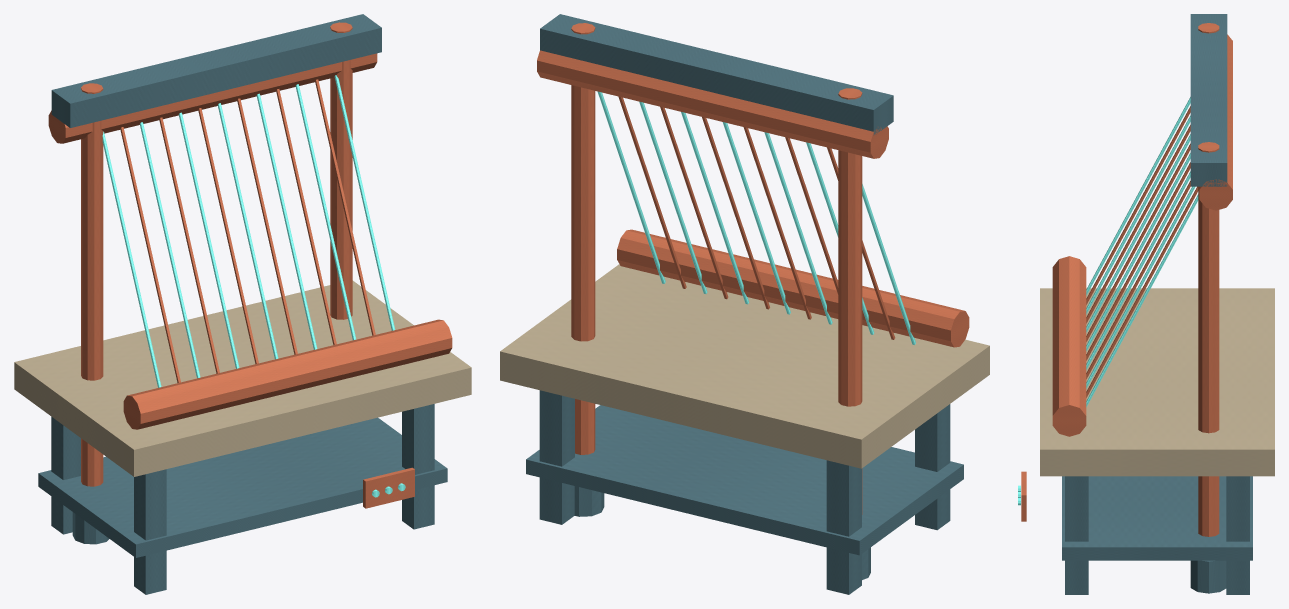
The model's file is atlas100-s041-a02.glb.
3 renders of one model, left to right at view 1: azimuth 30°, elevation 25°; view 2: azimuth 150°, elevation 25°; view 3: azimuth 270°, elevation 25°, orthographic. The views are drawn at different scales.
Parts seen in each view (by area): view 1: atlas100-s041-a02:part-004, atlas100-s041-a02:part-005, atlas100-s041-a02:part-010, atlas100-s041-a02:part-024, atlas100-s041-a02:part-006, atlas100-s041-a02:part-008, atlas100-s041-a02:part-025, atlas100-s041-a02:part-001, atlas100-s041-a02:part-003, atlas100-s041-a02:part-000, atlas100-s041-a02:part-026, atlas100-s041-a02:part-014 (+13 smaller); view 2: atlas100-s041-a02:part-004, atlas100-s041-a02:part-005, atlas100-s041-a02:part-010, atlas100-s041-a02:part-024, atlas100-s041-a02:part-025, atlas100-s041-a02:part-008, atlas100-s041-a02:part-006, atlas100-s041-a02:part-000, atlas100-s041-a02:part-002, atlas100-s041-a02:part-001, atlas100-s041-a02:part-017, atlas100-s041-a02:part-015 (+10 smaller); view 3: atlas100-s041-a02:part-004, atlas100-s041-a02:part-005, atlas100-s041-a02:part-008, atlas100-s041-a02:part-010, atlas100-s041-a02:part-024, atlas100-s041-a02:part-002, atlas100-s041-a02:part-003, atlas100-s041-a02:part-025, atlas100-s041-a02:part-009, atlas100-s041-a02:part-023, atlas100-s041-a02:part-022, atlas100-s041-a02:part-021 (+10 smaller).
Part boxes in pixels (x1,y1,x2,y2): atlas100-s041-a02:part-004: [14, 280, 471, 476]; atlas100-s041-a02:part-005: [38, 417, 447, 557]; atlas100-s041-a02:part-010: [51, 14, 381, 127]; atlas100-s041-a02:part-024: [123, 319, 452, 429]; atlas100-s041-a02:part-006: [81, 83, 103, 486]; atlas100-s041-a02:part-008: [330, 22, 352, 319]; atlas100-s041-a02:part-025: [48, 53, 377, 143]; atlas100-s041-a02:part-001: [134, 469, 166, 594]; atlas100-s041-a02:part-003: [402, 404, 434, 529]; atlas100-s041-a02:part-000: [51, 417, 80, 534]; atlas100-s041-a02:part-026: [363, 467, 414, 508]; atlas100-s041-a02:part-014: [159, 117, 219, 373]; atlas100-s041-a02:part-004: [500, 264, 989, 468]; atlas100-s041-a02:part-005: [526, 405, 963, 555]; atlas100-s041-a02:part-010: [540, 14, 893, 135]; atlas100-s041-a02:part-024: [617, 229, 969, 347]; atlas100-s041-a02:part-025: [537, 50, 888, 158]; atlas100-s041-a02:part-008: [571, 23, 595, 454]; atlas100-s041-a02:part-006: [838, 88, 862, 514]; atlas100-s041-a02:part-000: [826, 460, 861, 594]; atlas100-s041-a02:part-002: [539, 390, 574, 524]; atlas100-s041-a02:part-001: [915, 404, 950, 530]; atlas100-s041-a02:part-017: [722, 122, 790, 314]; atlas100-s041-a02:part-015: [764, 132, 832, 324]; atlas100-s041-a02:part-004: [1040, 288, 1274, 476]; atlas100-s041-a02:part-005: [1062, 476, 1252, 560]; atlas100-s041-a02:part-008: [1198, 142, 1219, 536]; atlas100-s041-a02:part-010: [1190, 14, 1227, 186]; atlas100-s041-a02:part-024: [1052, 256, 1086, 436]; atlas100-s041-a02:part-002: [1226, 476, 1249, 594]; atlas100-s041-a02:part-003: [1065, 476, 1088, 594]; atlas100-s041-a02:part-025: [1199, 34, 1232, 210]; atlas100-s041-a02:part-009: [1190, 560, 1226, 593]; atlas100-s041-a02:part-023: [1086, 194, 1198, 407]; atlas100-s041-a02:part-022: [1086, 186, 1198, 397]; atlas100-s041-a02:part-021: [1086, 186, 1195, 388].
Bounding box in the file's own units: 2.6 × 3.3 × 1.75.
4 materials, 4 textured.
